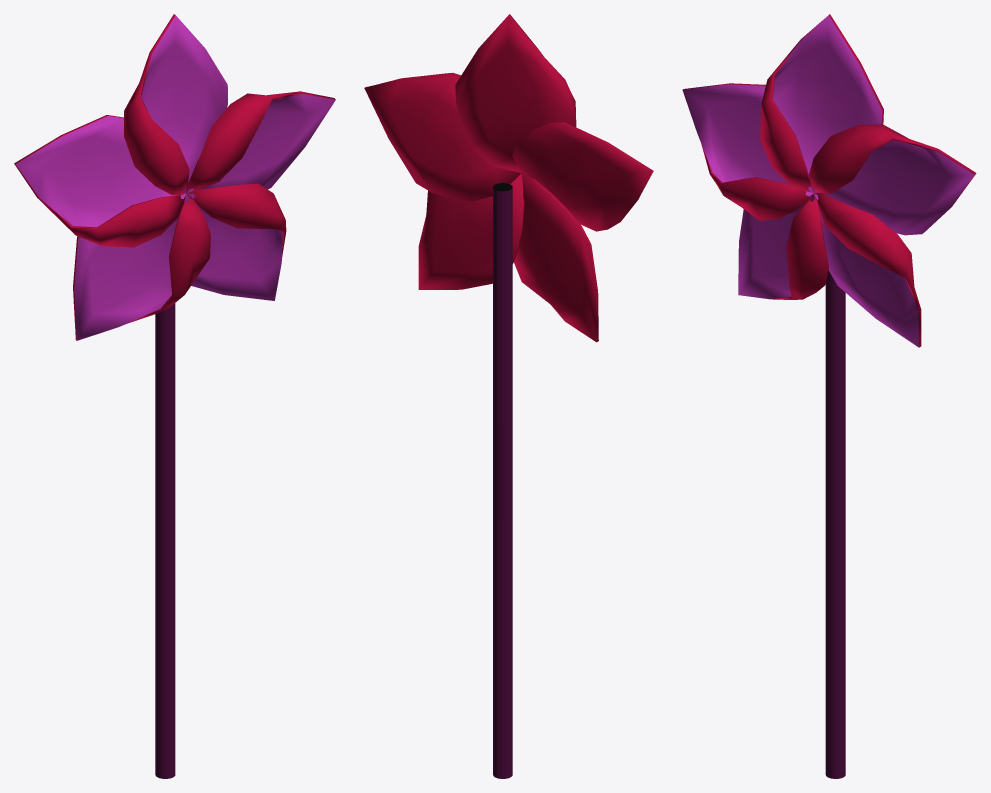
Rendered from Pinwheel.fbx.
The picture shows the model from 3 angles, left to right: view 1: azimuth 30°, elevation 25°; view 2: azimuth 150°, elevation 25°; view 3: azimuth 330°, elevation 25°; orthographic projection.
Parts seen in each view (by area): view 1: Circle.033; view 2: Circle.033; view 3: Circle.033.
Boxes of the visible parts, bbox=[...] form: Circle.033: bbox=[14, 14, 335, 778]; Circle.033: bbox=[364, 14, 653, 778]; Circle.033: bbox=[682, 14, 976, 778].
Bounding box in the file's own units: 300 × 717 × 64.08.
